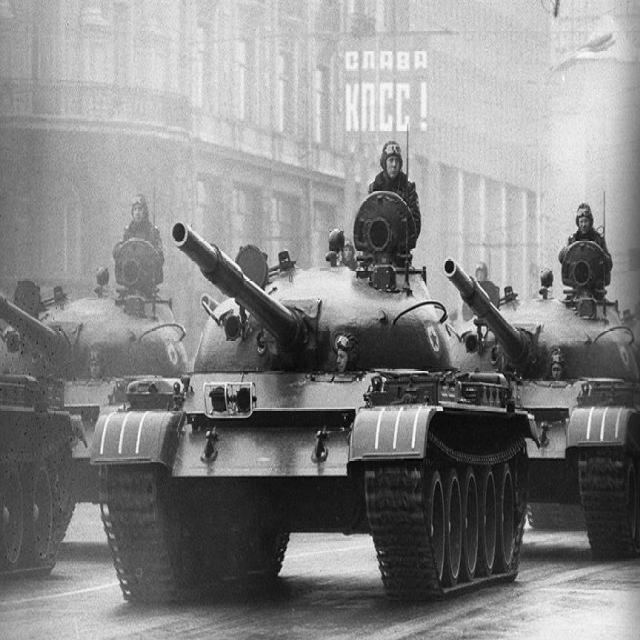north tank: (94, 181, 535, 640), (0, 230, 204, 636), (428, 206, 640, 583)
